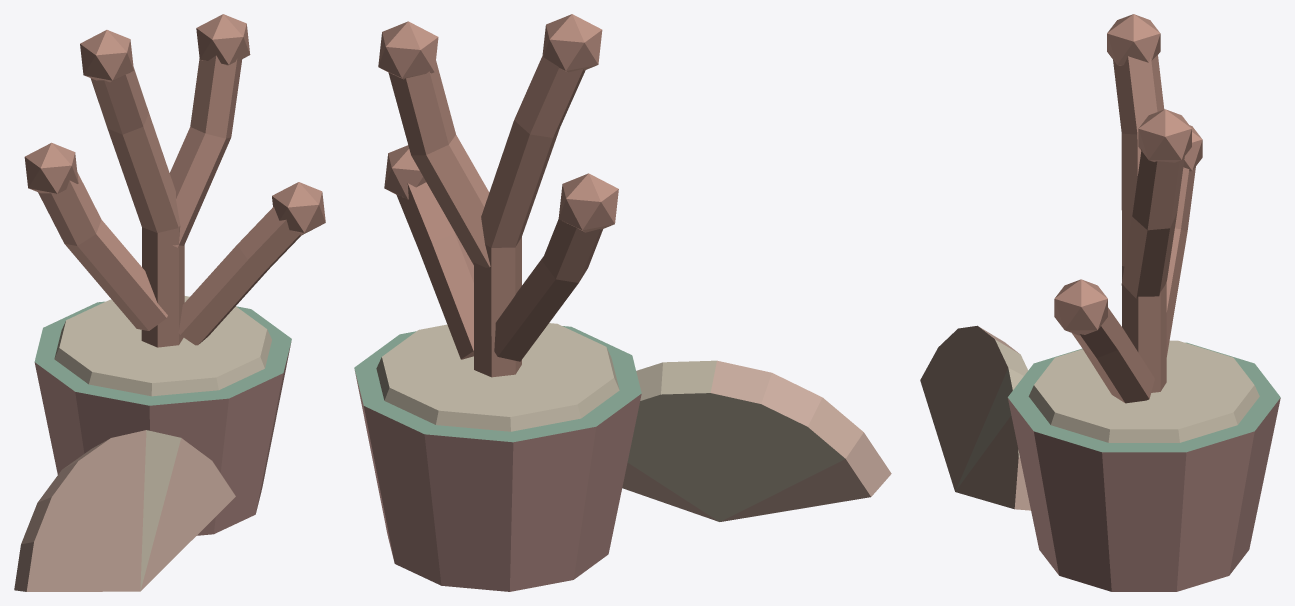
File: Kit_Calm_Hint_ShellCoral.glb
The picture shows the model from 3 angles, left to right: view 1: azimuth 30°, elevation 25°; view 2: azimuth 150°, elevation 25°; view 3: azimuth 270°, elevation 25°; orthographic projection. The views are drawn at different scales.
Parts seen in each view (by area): view 1: EX_HintShell_Stone; view 2: EX_HintShell_Stone; view 3: EX_HintShell_Stone.
Boxes of the visible parts, x1,y1,x2,y2 form: EX_HintShell_Stone: (14,14,325,591); EX_HintShell_Stone: (354,14,891,591); EX_HintShell_Stone: (920,14,1280,591).
Bounding box in the file's own units: 0.6387 × 0.8061 × 0.5149.
